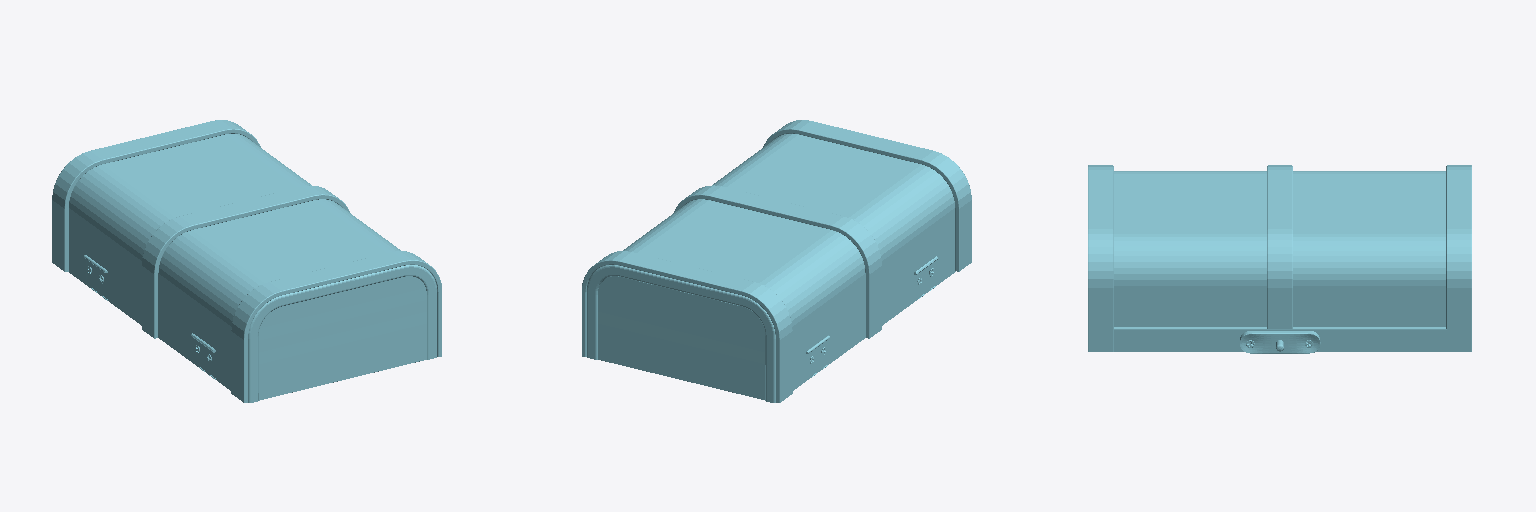
The model's file is boxUp.obj.
3 views of the same model, side by side, from view 1: azimuth 30°, elevation 25°; view 2: azimuth 150°, elevation 25°; view 3: azimuth 270°, elevation 25° (orthographic).
Parts seen in each view (by area): view 1: Lid, Hinge_top; view 2: Lid, Hinge_top; view 3: Lid.
Boxes of the visible parts, x1,y1,x2,y2 form: Lid: [52, 120, 441, 402]; Hinge_top: [84, 255, 215, 379]; Lid: [582, 120, 971, 402]; Hinge_top: [806, 256, 937, 379]; Lid: [1088, 165, 1471, 353].
Bounding box in the file's own units: 9.69 × 4.47 × 14.9.